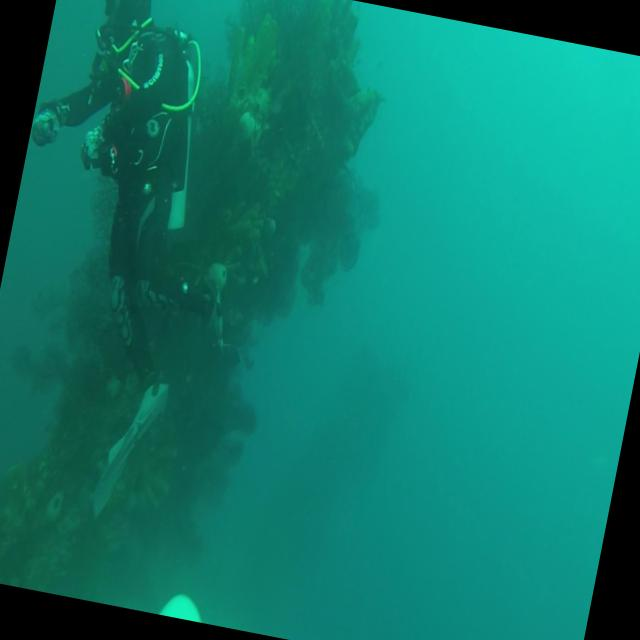human: (0, 0, 245, 399)
